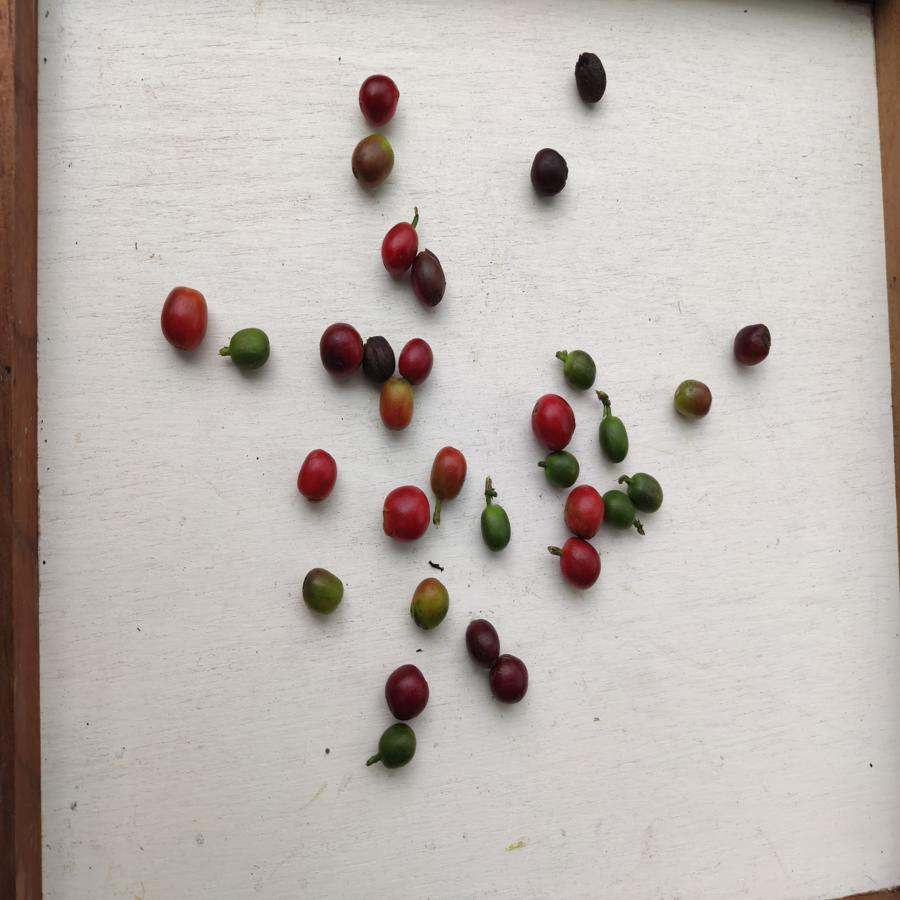Inmaduro: (226, 327, 273, 374), (376, 721, 419, 771), (475, 501, 518, 550), (596, 414, 635, 462), (561, 347, 600, 394), (620, 471, 663, 512), (538, 453, 581, 489), (603, 489, 638, 533)
Maduro: (161, 286, 210, 353), (380, 483, 431, 542), (529, 391, 576, 450), (295, 449, 340, 505), (559, 535, 605, 589), (563, 485, 603, 539), (383, 222, 415, 274), (399, 337, 434, 381)
Pinton: (350, 134, 396, 189), (299, 565, 346, 617), (410, 577, 452, 630), (429, 447, 467, 503), (379, 380, 417, 429), (672, 377, 713, 422)
Sobremaduro: (318, 321, 366, 381), (382, 662, 429, 721), (356, 73, 404, 129), (413, 246, 451, 312), (488, 653, 534, 704), (571, 50, 610, 107), (527, 148, 573, 196), (730, 320, 773, 370), (461, 618, 502, 666), (364, 334, 394, 380)
